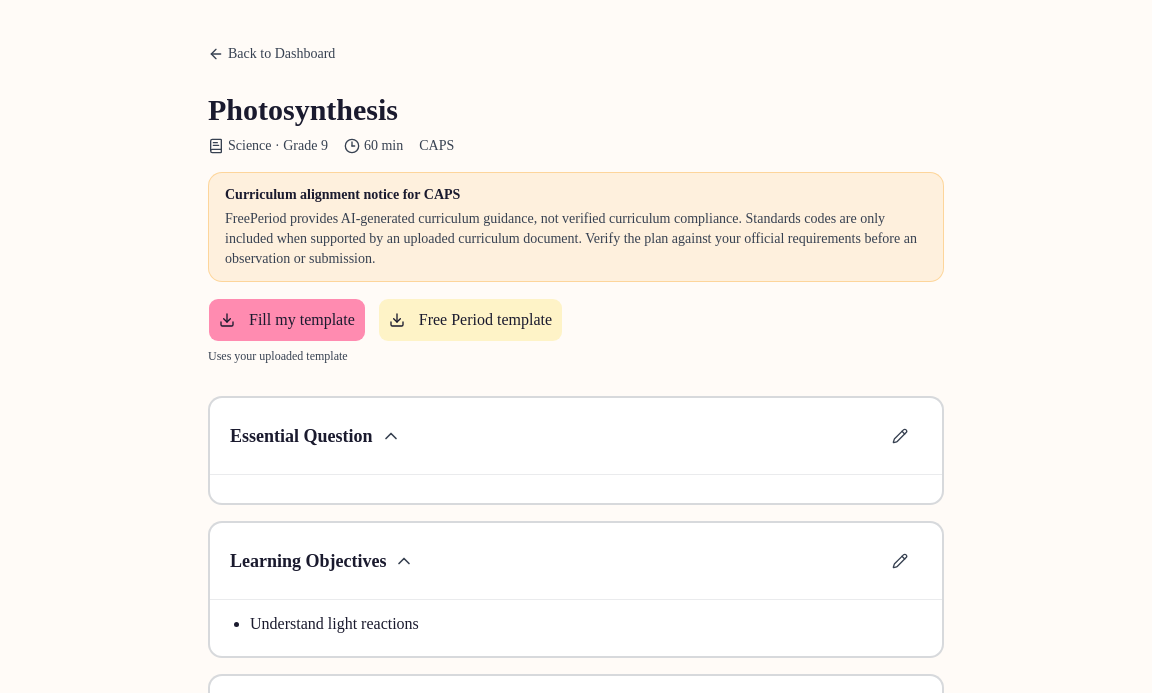
Test: LessonView › does not download an unfilled template and keeps the shared dialog open
This screenshot has width=1152, height=693.
Click the button "Fill my template" at (287, 320), box [208,298,366,342]
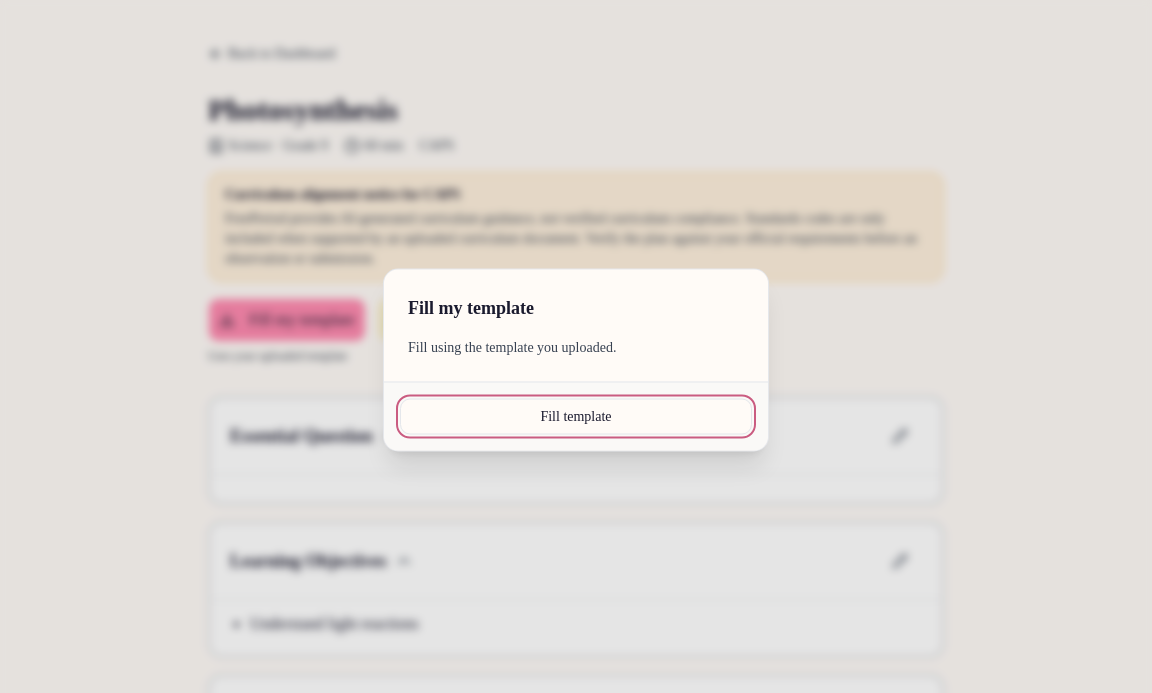
Click the button "Fill template" at (576, 416), box [400,398,752,434]
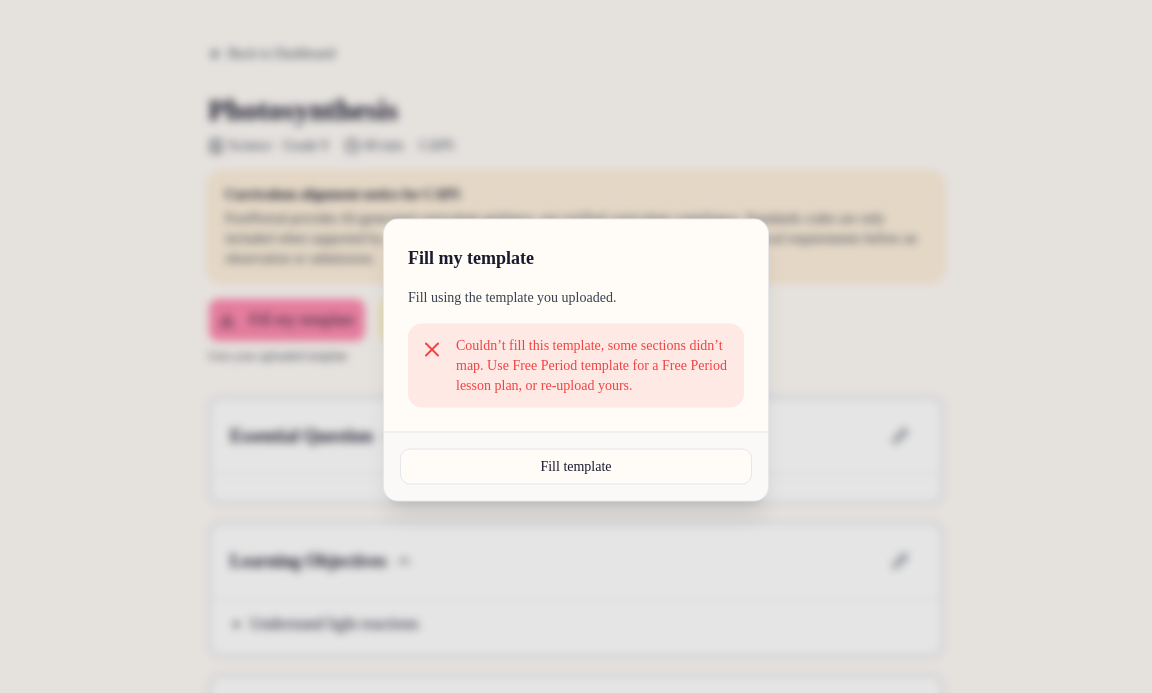
Check: the text "Fill using the template you uploaded." is shown, box [408,290,616,304]
Check: the icon is shown, box [420,338,444,362]
